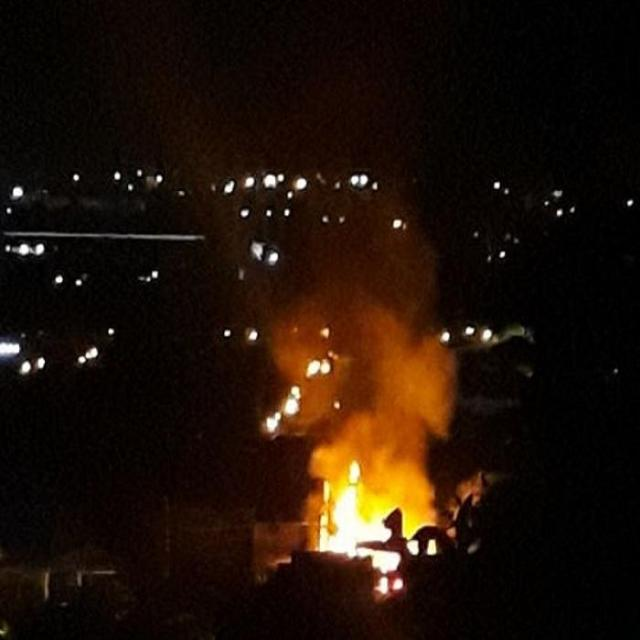Fire: (313, 462, 437, 574)
